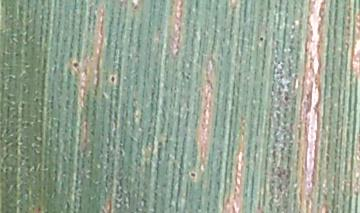tarspot: (70, 59, 82, 70), (187, 168, 198, 180), (108, 73, 118, 84), (255, 32, 264, 43)
